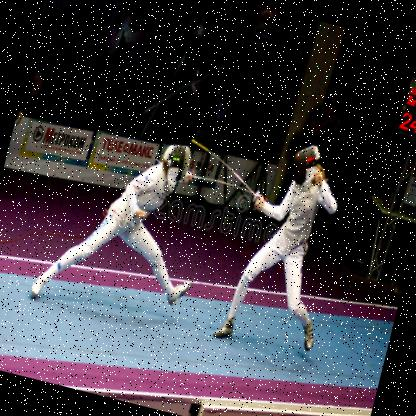fencer: (15, 114, 230, 342), (198, 122, 375, 368)
